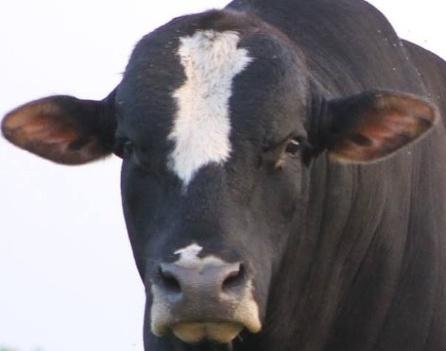muzzles: (139, 256, 274, 349)
